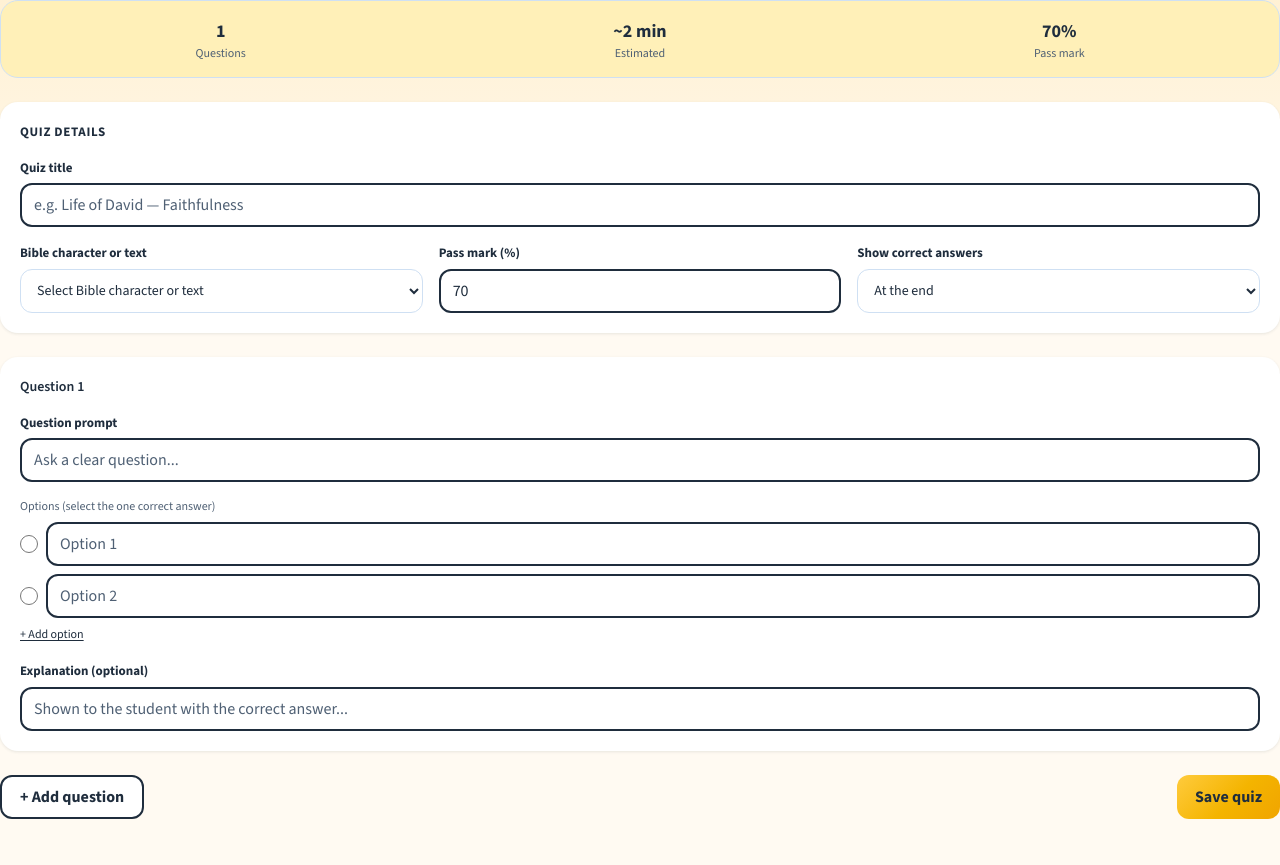
Test: QuizBuilder › shows validation errors when question has no correct answer or pass mark is out of bounds
The width and height of the screenshot is (1280, 865).
In the field labelled "Quiz title": (640, 205) [20,183,1260,227], type "Faith Quiz"
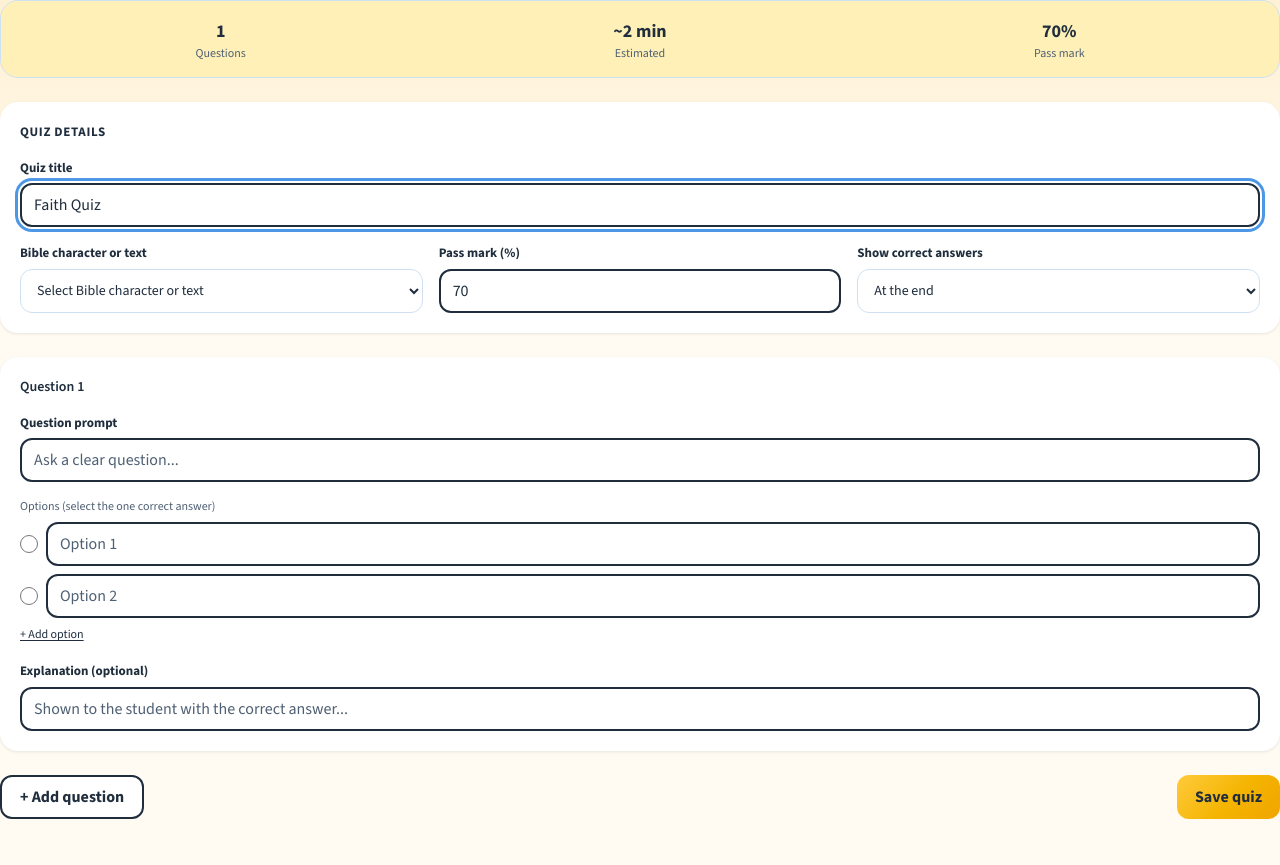
Select "David (Character)" in the dropdown labelled "Bible character or text": (221, 290) [20,268,423,312]
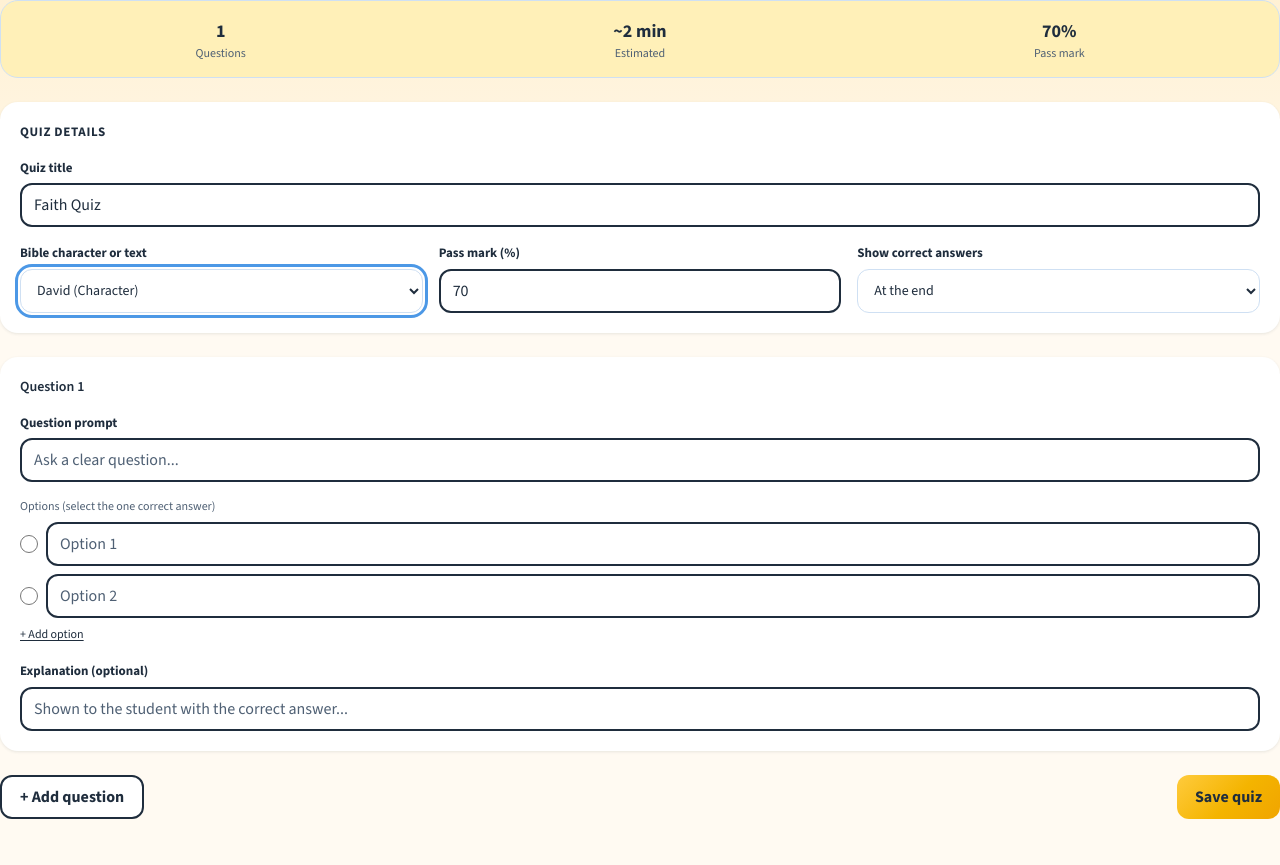
Replace the text in the number field labelled "Pass mark (%)" with "150": (640, 290) [439,268,841,312]
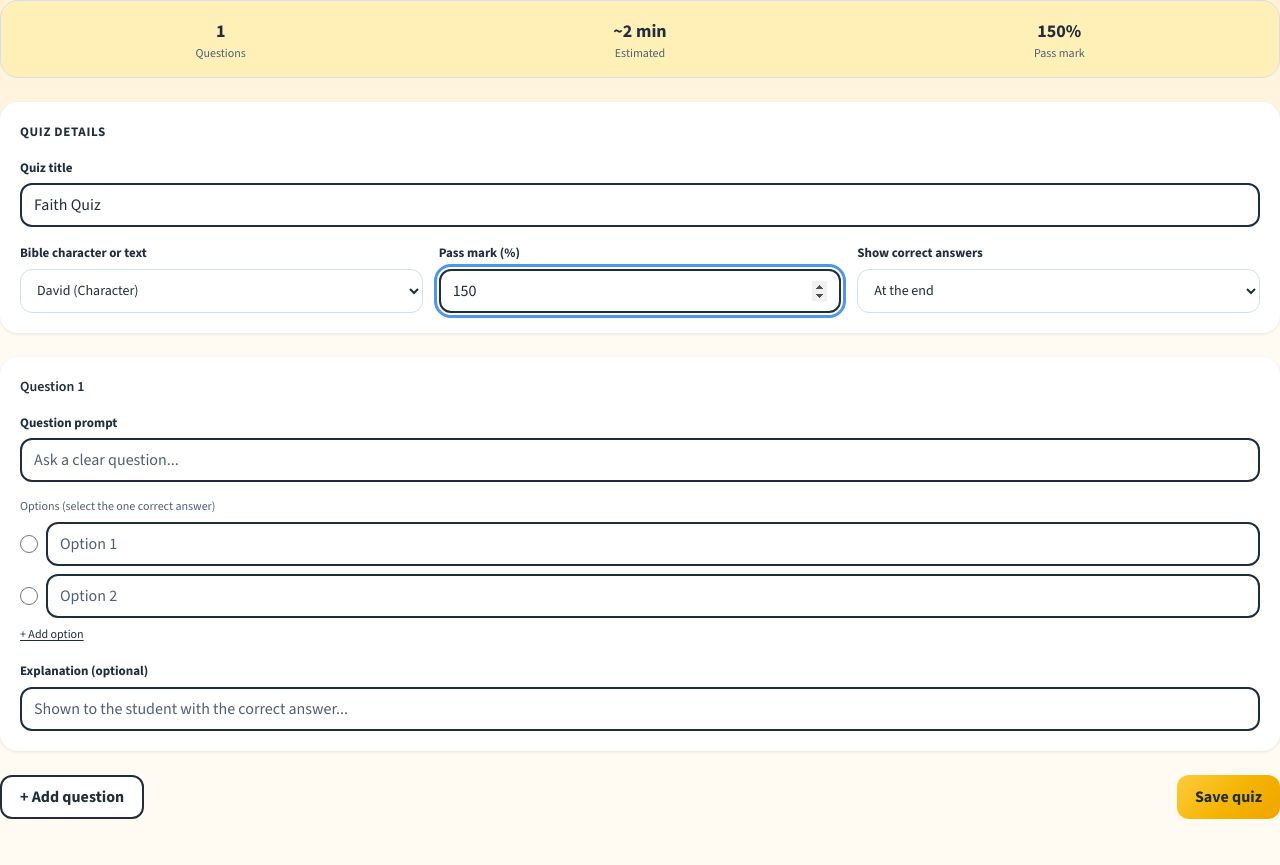
Click the button "Save quiz": click(1228, 796) [1177,774,1279,818]
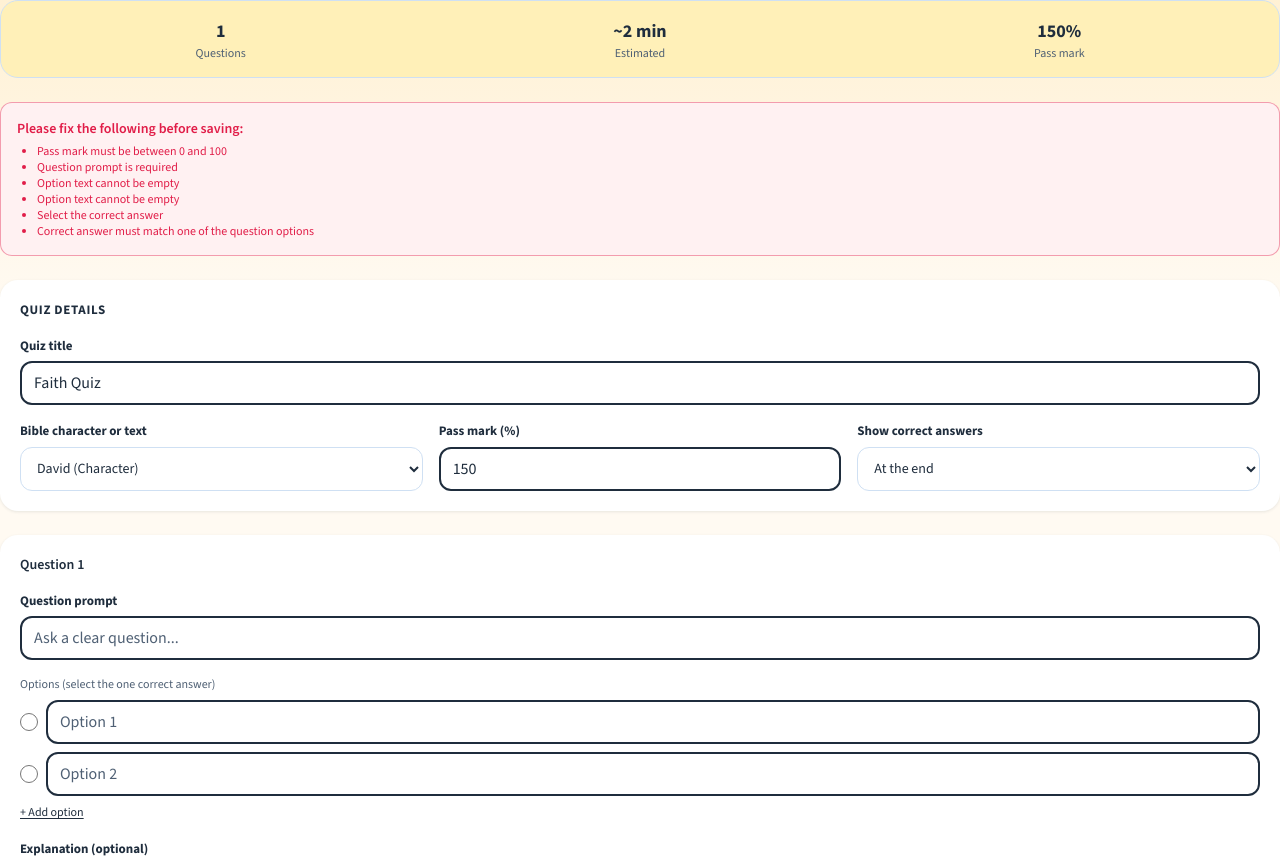
Now the list item "Pass mark must be between 0 and 100" is shown, box [37,143,227,159]
Now the list item "Select the correct answer" is shown, box [37,207,163,223]
